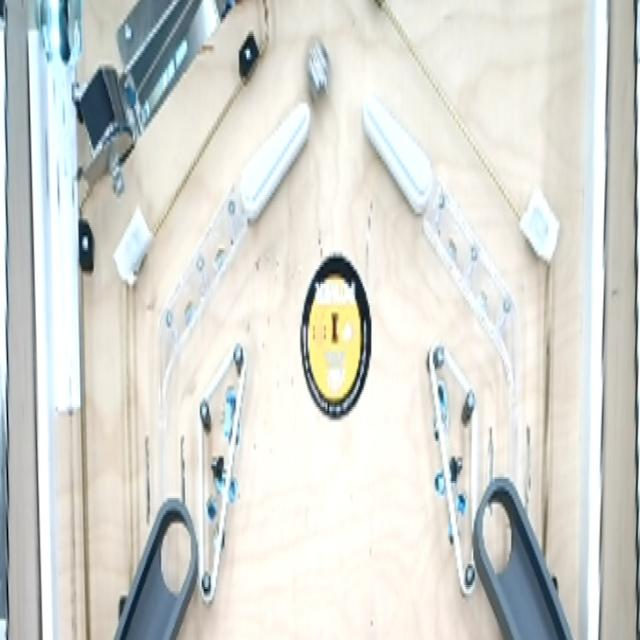ball: (303, 33, 333, 104)
flipper-left: (360, 87, 434, 216)
flipper-right: (235, 100, 312, 224)
